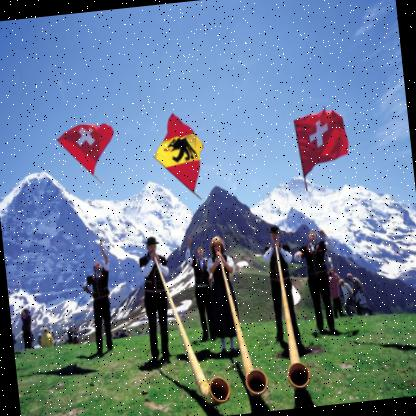ch: (54, 114, 118, 180), (292, 108, 352, 176)
